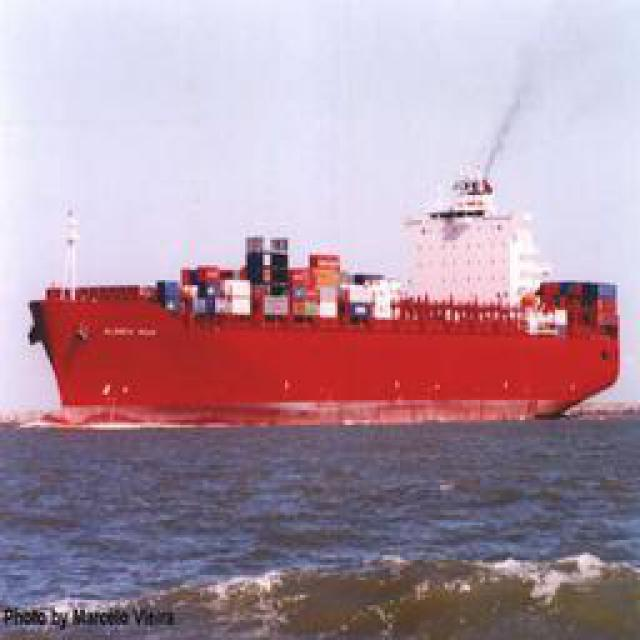Ship: (31, 191, 624, 411)
